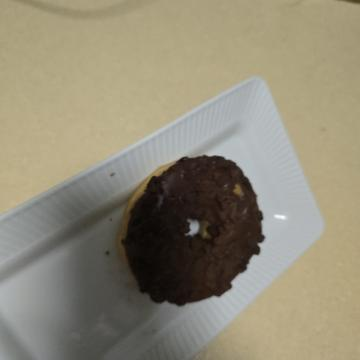doughnut: (141, 84, 318, 256)
